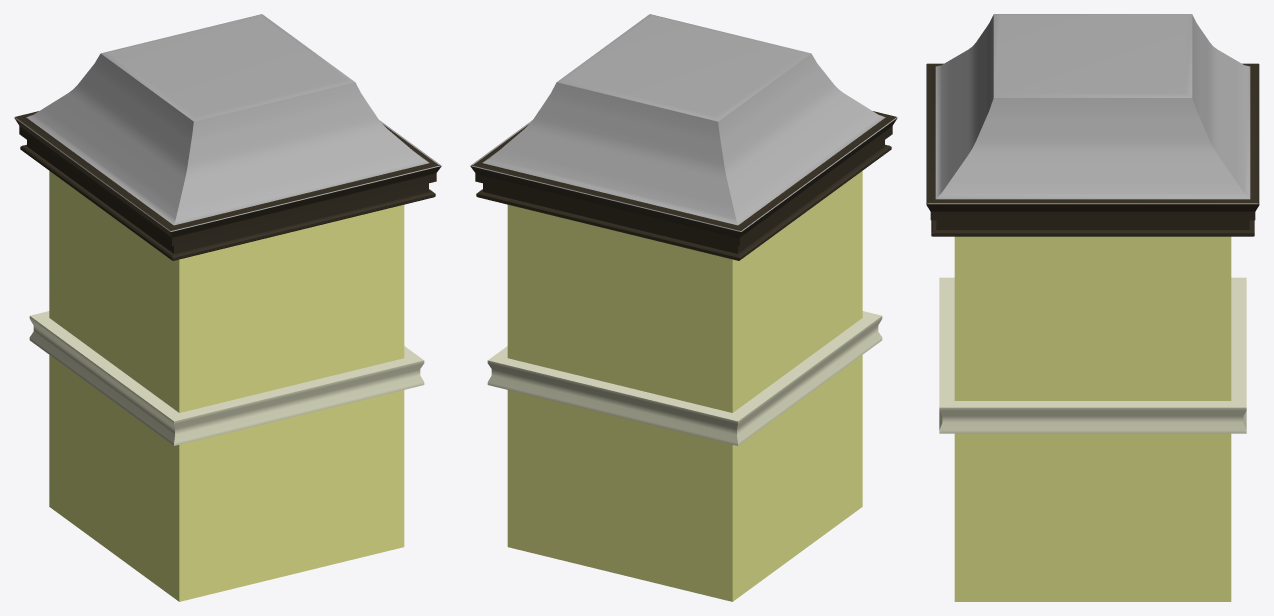
Rendered from robotwineraingamehouse.fbx.
The picture shows the model from 3 angles, left to right: view 1: azimuth 30°, elevation 25°; view 2: azimuth 150°, elevation 25°; view 3: azimuth 270°, elevation 25°; orthographic projection. The views are drawn at different scales.
Parts seen in each view (by area): view 1: building, pCube15; view 2: building, pCube15; view 3: building, pCube15.
Part boxes in pixels (box(x1,y1,x2,y2)): building: box(29, 171, 424, 601); pCube15: box(14, 14, 441, 260); building: box(487, 171, 882, 601); pCube15: box(470, 14, 897, 260); building: box(939, 236, 1246, 601); pCube15: box(926, 14, 1259, 236).
Bounding box in the file's own units: 26.98 × 43.78 × 26.98.
